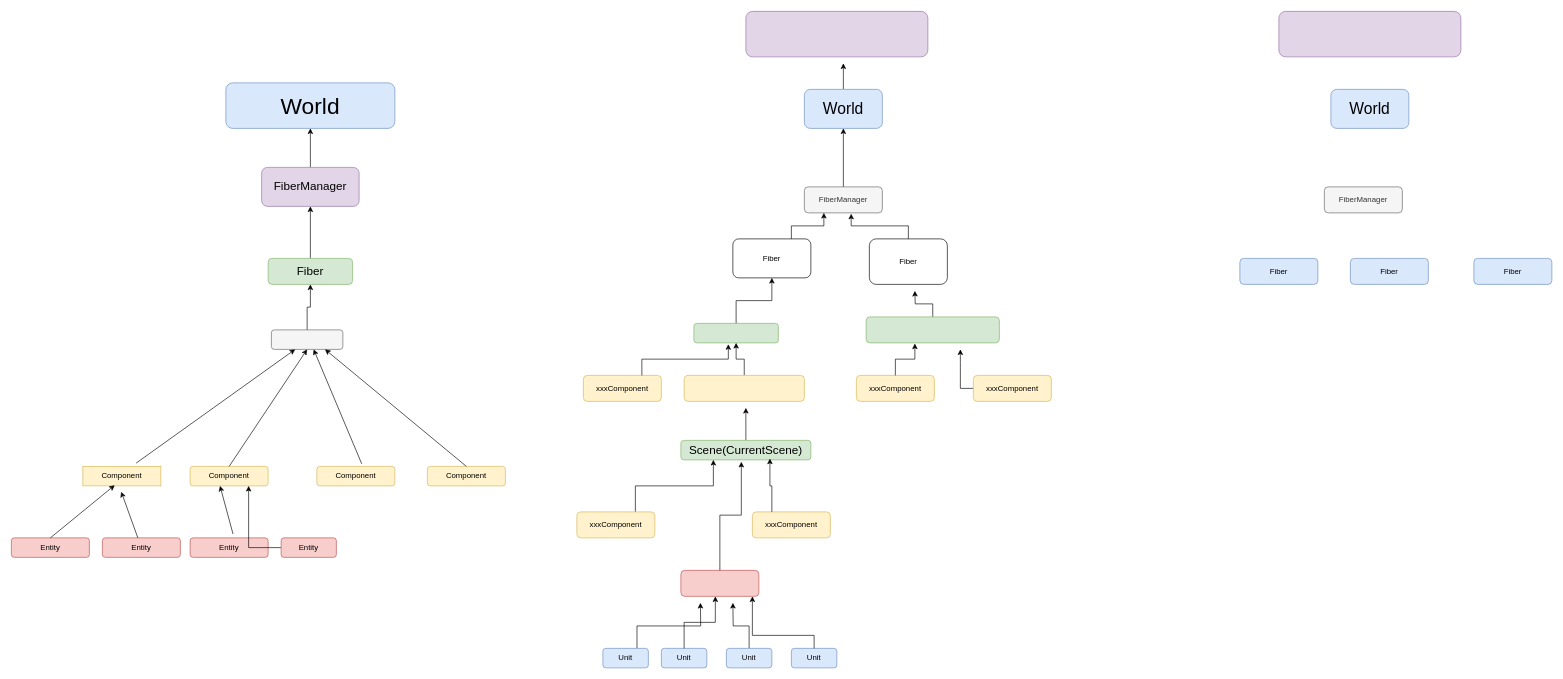
Some shapes in this 1563 by 679 pixel diagram are drawn without their labels. The shapes that lost their labels are listed below. From the top down, each one's box as (x1, y1, x2, y2) in pixels, then its label:
(745, 11, 928, 57): 游戏客户端进程
(1278, 11, 1461, 57): 游戏服务器端进程
(271, 329, 343, 349): Scene
(693, 323, 778, 343): Scene(Main)
(865, 316, 999, 343): Scene(NetClient)
(683, 375, 804, 401): CurrentSceneComponent
(680, 570, 759, 596): UnitComponent
